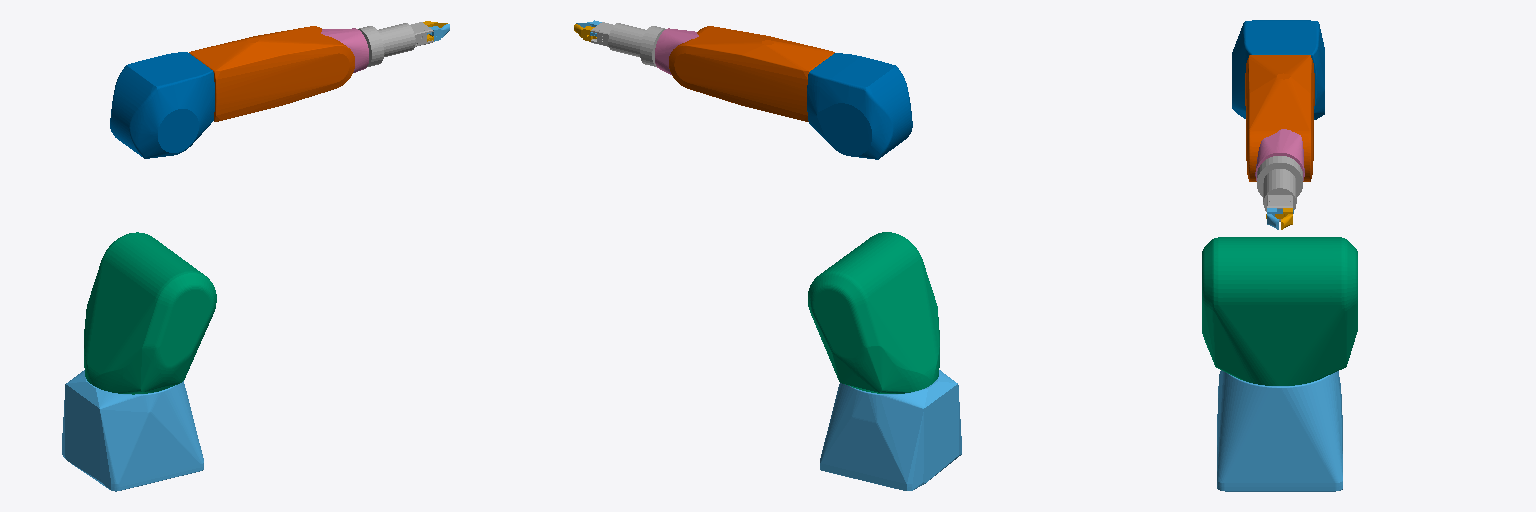
robot.urdf — fanuc_lrmate200id:
<?xml version="1.0" ?>
<robot name="fanuc_lrmate200id">
  <joint name="fanuc_lrmate200id__world_joint" type="fixed">
    <parent link="fanuc_lrmate200id__world"/>
    <child link="fanuc_lrmate200id__link0"/>
    <origin rpy="0 0 0" xyz="0 0 0"/>
    <axis xyz="0 0 1"/>
    <limit effort="0.0" lower="0.0" upper="0.0" velocity="0.0"/>
  </joint>
  <joint name="fanuc_lrmate200id__fanuc_joint_1" type="revolute">
    <parent link="fanuc_lrmate200id__link0"/>
    <child link="fanuc_lrmate200id__fanuc_link_1"/>
    <origin rpy="0 0 0" xyz="0   0   0.33"/>
    <axis xyz="0 0 1"/>
    <limit effort="0.0" lower="-2.965" upper="2.965" velocity="7.85"/>
  </joint>
  <joint name="fanuc_lrmate200id__fanuc_joint_2" type="revolute">
    <parent link="fanuc_lrmate200id__fanuc_link_1"/>
    <child link="fanuc_lrmate200id__fanuc_link_2"/>
    <origin rpy="0 0 0" xyz="0.05 0   0"/>
    <axis xyz="0 1 0"/>
    <limit effort="0.0" lower="-1.74533" upper="2.53073" velocity="6.63"/>
  </joint>
  <joint name="fanuc_lrmate200id__fanuc_joint_3" type="revolute">
    <parent link="fanuc_lrmate200id__fanuc_link_2"/>
    <child link="fanuc_lrmate200id__fanuc_link_3"/>
    <origin rpy="0 0 0" xyz="0   0   0.33"/>
    <axis xyz="0 -1  0"/>
    <limit effort="0.0" lower="-2.45097" upper="4.88692" velocity="9.08"/>
  </joint>
  <joint name="fanuc_lrmate200id__fanuc_joint_4" type="revolute">
    <parent link="fanuc_lrmate200id__fanuc_link_3"/>
    <child link="fanuc_lrmate200id__fanuc_link_4"/>
    <origin rpy="0 0 0" xyz="0    0    0.035"/>
    <axis xyz="-1  0  0"/>
    <limit effort="0.0" lower="-3.315" upper="3.315" velocity="9.6"/>
  </joint>
  <joint name="fanuc_lrmate200id__fanuc_joint_5" type="revolute">
    <parent link="fanuc_lrmate200id__fanuc_link_4"/>
    <child link="fanuc_lrmate200id__fanuc_link_5"/>
    <origin rpy="0 0 0" xyz="0.335 0    0"/>
    <axis xyz="0 -1  0"/>
    <limit effort="0.0" lower="-2.18" upper="2.18" velocity="9.51"/>
  </joint>
  <joint name="fanuc_lrmate200id__fanuc_joint_6" type="revolute">
    <parent link="fanuc_lrmate200id__fanuc_link_5"/>
    <child link="fanuc_lrmate200id__fanuc_link_6"/>
    <origin rpy="0 0 0" xyz="0.074 0    0"/>
    <axis xyz="-1  0  0"/>
    <limit effort="0.0" lower="-6.285" upper="6.285" velocity="17.45"/>
  </joint>
  <joint name="fanuc_lrmate200id__fanuc_prism1" type="prismatic">
    <parent link="fanuc_lrmate200id__fanuc_link_6"/>
    <child link="fanuc_lrmate200id__fanuc_finger_1"/>
    <origin rpy="-3.14159  0       1.5708" xyz="0.1401  0.02    0.01099"/>
    <axis xyz="-1  0  0"/>
    <limit effort="1000.0" lower="-0.008" upper="0.0" velocity="1000.0"/>
  </joint>
  <joint name="fanuc_lrmate200id__fanuc_prism2" type="prismatic">
    <parent link="fanuc_lrmate200id__fanuc_link_6"/>
    <child link="fanuc_lrmate200id__fanuc_finger_2"/>
    <origin rpy="-3.14159  0      -1.5708" xyz="0.1401   0      -0.01099"/>
    <axis xyz="-1  0  0"/>
    <limit effort="1000.0" lower="-0.008" upper="0.0" velocity="1000.0"/>
  </joint>
  <link name="fanuc_lrmate200id__world">
    <inertial>
      <mass value="0"/>
      <origin rpy="0 0 0" xyz="0 0 0"/>
      <inertia ixx="0" ixy="0" ixz="0" iyy="0" iyz="0" izz="0"/>
    </inertial>
  </link>
  <link name="fanuc_lrmate200id__link0">
    <inertial>
      <mass value="4"/>
      <origin rpy="0 0 0" xyz="0 0 0"/>
      <inertia ixx="0.0216667" ixy="0" ixz="0" iyy="0.0216667" iyz="0" izz="0.0240667"/>
    </inertial>
    <collision name="fanuc_lrmate200id__link0_fixed_joint_lump__fanuc_base_link_collision">
      <origin rpy="0 0 0" xyz="0 0 0"/>
      <geometry>
        <mesh filename="package://PATHTOMESHES/meshes/lrmate200id/visual/base_link.stl" scale="1 1 1"/>
      </geometry>
    </collision>
    <visual name="fanuc_lrmate200id__link0_fixed_joint_lump__fanuc_base_link_visual">
      <origin rpy="0 0 0" xyz="0 0 0"/>
      <geometry>
        <mesh filename="package://PATHTOMESHES/meshes/lrmate200id/visual/base_link.stl" scale="1 1 1"/>
      </geometry>
    </visual>
  </link>
  <link name="fanuc_lrmate200id__fanuc_link_1">
    <inertial>
      <mass value="4"/>
      <origin rpy="0 0 0" xyz="0 0 0"/>
      <inertia ixx="0.0322667" ixy="0" ixz="0" iyy="0.0226667" iyz="0" izz="0.0226667"/>
    </inertial>
    <collision name="fanuc_lrmate200id__fanuc_link_1_collision">
      <origin rpy="0 0 0" xyz="0 0 0"/>
      <geometry>
        <mesh filename="package://PATHTOMESHES/meshes/lrmate200id/visual/link_1.stl" scale="1 1 1"/>
      </geometry>
    </collision>
    <visual name="fanuc_lrmate200id__fanuc_link_1_visual">
      <origin rpy="0 0 0" xyz="0 0 0"/>
      <geometry>
        <mesh filename="package://PATHTOMESHES/meshes/lrmate200id/visual/link_1.stl" scale="1 1 1"/>
      </geometry>
    </visual>
  </link>
  <link name="fanuc_lrmate200id__fanuc_link_2">
    <inertial>
      <mass value="5"/>
      <origin rpy="0 0 0" xyz="0 0 0"/>
      <inertia ixx="0.0973333" ixy="0" ixz="0" iyy="0.0888333" iyz="0" izz="0.0248333"/>
    </inertial>
    <collision name="fanuc_lrmate200id__fanuc_link_2_collision">
      <origin rpy="0 0 0" xyz="0 0 0"/>
      <geometry>
        <mesh filename="package://PATHTOMESHES/meshes/lrmate200id/visual/link_2.stl" scale="1 1 1"/>
      </geometry>
    </collision>
    <visual name="fanuc_lrmate200id__fanuc_link_2_visual">
      <origin rpy="0 0 0" xyz="0 0 0"/>
      <geometry>
        <mesh filename="package://PATHTOMESHES/meshes/lrmate200id/visual/link_2.stl" scale="1 1 1"/>
      </geometry>
    </visual>
  </link>
  <link name="fanuc_lrmate200id__fanuc_link_3">
    <inertial>
      <mass value="4"/>
      <origin rpy="0 0 0" xyz="0 0 0"/>
      <inertia ixx="0.0104333" ixy="0" ixz="0" iyy="0.0121667" iyz="0" izz="0.0113333"/>
    </inertial>
    <collision name="fanuc_lrmate200id__fanuc_link_3_collision">
      <origin rpy="0 0 0" xyz="0 0 0"/>
      <geometry>
        <mesh filename="package://PATHTOMESHES/meshes/lrmate200id/visual/link_3.stl" scale="1 1 1"/>
      </geometry>
    </collision>
    <visual name="fanuc_lrmate200id__fanuc_link_3_visual">
      <origin rpy="0 0 0" xyz="0 0 0"/>
      <geometry>
        <mesh filename="package://PATHTOMESHES/meshes/lrmate200id/visual/link_3.stl" scale="1 1 1"/>
      </geometry>
    </visual>
  </link>
  <link name="fanuc_lrmate200id__fanuc_link_4">
    <inertial>
      <mass value="5"/>
      <origin rpy="0 0 0" xyz="0 0 0"/>
      <inertia ixx="0.00833333" ixy="0" ixz="0" iyy="0.0368333" iyz="0" izz="0.0368333"/>
    </inertial>
    <collision name="fanuc_lrmate200id__fanuc_link_4_collision">
      <origin rpy="0 0 0" xyz="0 0 0"/>
      <geometry>
        <mesh filename="package://PATHTOMESHES/meshes/lrmate200id/visual/link_4.stl" scale="1 1 1"/>
      </geometry>
    </collision>
    <visual name="fanuc_lrmate200id__fanuc_link_4_visual">
      <origin rpy="0 0 0" xyz="0 0 0"/>
      <geometry>
        <mesh filename="package://PATHTOMESHES/meshes/lrmate200id/visual/link_4.stl" scale="1 1 1"/>
      </geometry>
    </visual>
  </link>
  <link name="fanuc_lrmate200id__fanuc_link_5">
    <inertial>
      <mass value="1.5"/>
      <origin rpy="0 0 0" xyz="0 0 0"/>
      <inertia ixx="0.0018125" ixy="0" ixz="0" iyy="0.0023125" iyz="0" izz="0.002525"/>
    </inertial>
    <collision name="fanuc_lrmate200id__fanuc_link_5_collision">
      <origin rpy="0 0 0" xyz="0 0 0"/>
      <geometry>
        <mesh filename="package://PATHTOMESHES/meshes/lrmate200id/visual/link_5.stl" scale="1 1 1"/>
      </geometry>
    </collision>
    <visual name="fanuc_lrmate200id__fanuc_link_5_visual">
      <origin rpy="0 0 0" xyz="0 0 0"/>
      <geometry>
        <mesh filename="package://PATHTOMESHES/meshes/lrmate200id/visual/link_5.stl" scale="1 1 1"/>
      </geometry>
    </visual>
  </link>
  <link name="fanuc_lrmate200id__fanuc_link_6">
    <inertial>
      <mass value="4"/>
      <origin rpy="0 0 0" xyz="0 0 0"/>
      <inertia ixx="1e-3" ixy="0" ixz="0" iyy="1e-3" iyz="0" izz="1e-3"/>
    </inertial>
    <collision name="fanuc_lrmate200id__fanuc_link_6_collision">
      <origin rpy="0 0 0" xyz="0 0 0"/>
      <geometry>
        <mesh filename="package://PATHTOMESHES/meshes/fanuc_link_6.STL" scale="1 1 1"/>
      </geometry>
    </collision>
    <visual name="fanuc_lrmate200id__fanuc_link_6_visual">
      <origin rpy="0 0 0" xyz="0 0 0"/>
      <geometry>
        <mesh filename="package://PATHTOMESHES/meshes/fanuc_link_6.STL" scale="1 1 1"/>
      </geometry>
    </visual>
  </link>
  <link name="fanuc_lrmate200id__fanuc_finger_1">
    <inertial>
      <mass value="0.1"/>
      <origin rpy="0 0 0" xyz="0 0 0"/>
      <inertia ixx="1e-3" ixy="0" ixz="0" iyy="1e-3" iyz="0" izz="1e-3"/>
    </inertial>
    <collision name="fanuc_lrmate200id__fanuc_finger_1_collision">
      <origin rpy="0 0 0" xyz="0 0 0"/>
      <geometry>
        <mesh filename="package://PATHTOMESHES/meshes/fanuc_finger_1.STL" scale="1 1 1"/>
      </geometry>
    </collision>
    <visual name="fanuc_lrmate200id__fanuc_finger_1_visual">
      <origin rpy="0 0 0" xyz="0 0 0"/>
      <geometry>
        <mesh filename="package://PATHTOMESHES/meshes/fanuc_finger_1.STL" scale="1 1 1"/>
      </geometry>
    </visual>
  </link>
  <link name="fanuc_lrmate200id__fanuc_finger_2">
    <inertial>
      <mass value="0.1"/>
      <origin rpy="0 0 0" xyz="0 0 0"/>
      <inertia ixx="1e-3" ixy="0" ixz="0" iyy="1e-3" iyz="0" izz="1e-3"/>
    </inertial>
    <collision name="fanuc_lrmate200id__fanuc_finger_2_collision">
      <origin rpy="0 0 0" xyz="0 0 0"/>
      <geometry>
        <mesh filename="package://PATHTOMESHES/meshes/fanuc_finger_2.STL" scale="1 1 1"/>
      </geometry>
    </collision>
    <visual name="fanuc_lrmate200id__fanuc_finger_2_visual">
      <origin rpy="0 0 0" xyz="0 0 0"/>
      <geometry>
        <mesh filename="package://PATHTOMESHES/meshes/fanuc_finger_2.STL" scale="1 1 1"/>
      </geometry>
    </visual>
  </link>
</robot>

--- Render facts (derived) ---
Views: 3 orthographic renders of the robot side by side, from view 1: azimuth 30°, elevation 25°; view 2: azimuth 150°, elevation 25°; view 3: azimuth 270°, elevation 25°.
Model fanuc_lrmate200id with 10 links and 9 joints (6 revolute, 2 prismatic, 1 fixed), rooted at fanuc_lrmate200id__world, posed every joint at zero.
Links seen in each view (by area): view 1: fanuc_lrmate200id__fanuc_link_1, fanuc_lrmate200id__link0, fanuc_lrmate200id__fanuc_link_4, fanuc_lrmate200id__fanuc_link_3, fanuc_lrmate200id__fanuc_link_6, fanuc_lrmate200id__fanuc_link_5; view 2: fanuc_lrmate200id__fanuc_link_1, fanuc_lrmate200id__link0, fanuc_lrmate200id__fanuc_link_4, fanuc_lrmate200id__fanuc_link_3, fanuc_lrmate200id__fanuc_link_6, fanuc_lrmate200id__fanuc_link_5; view 3: fanuc_lrmate200id__fanuc_link_1, fanuc_lrmate200id__link0, fanuc_lrmate200id__fanuc_link_4, fanuc_lrmate200id__fanuc_link_3, fanuc_lrmate200id__fanuc_link_6, fanuc_lrmate200id__fanuc_link_5.
Boxes of the visible links, <box> form: fanuc_lrmate200id__fanuc_link_1: <box>84,232,216,394</box>; fanuc_lrmate200id__link0: <box>62,370,203,491</box>; fanuc_lrmate200id__fanuc_link_4: <box>189,26,354,121</box>; fanuc_lrmate200id__fanuc_link_3: <box>110,52,214,158</box>; fanuc_lrmate200id__fanuc_link_6: <box>358,22,433,66</box>; fanuc_lrmate200id__fanuc_link_5: <box>321,28,368,72</box>; fanuc_lrmate200id__fanuc_link_1: <box>808,232,939,393</box>; fanuc_lrmate200id__link0: <box>820,370,961,490</box>; fanuc_lrmate200id__fanuc_link_4: <box>669,26,834,121</box>; fanuc_lrmate200id__fanuc_link_3: <box>807,53,912,159</box>; fanuc_lrmate200id__fanuc_link_6: <box>591,22,665,66</box>; fanuc_lrmate200id__fanuc_link_5: <box>655,28,698,74</box>; fanuc_lrmate200id__fanuc_link_1: <box>1202,237,1357,385</box>; fanuc_lrmate200id__link0: <box>1217,370,1342,491</box>; fanuc_lrmate200id__fanuc_link_4: <box>1245,55,1314,181</box>; fanuc_lrmate200id__fanuc_link_3: <box>1232,20,1324,119</box>; fanuc_lrmate200id__fanuc_link_6: <box>1257,156,1302,221</box>; fanuc_lrmate200id__fanuc_link_5: <box>1255,129,1304,180</box>.
Size in the robot's own frame: 0.744 by 0.235 by 0.7589 metres.
8 mesh visuals loaded from 9 distinct referenced files (8 binary STL); not drawn: 1 (reference not matched to a file when rendering).
